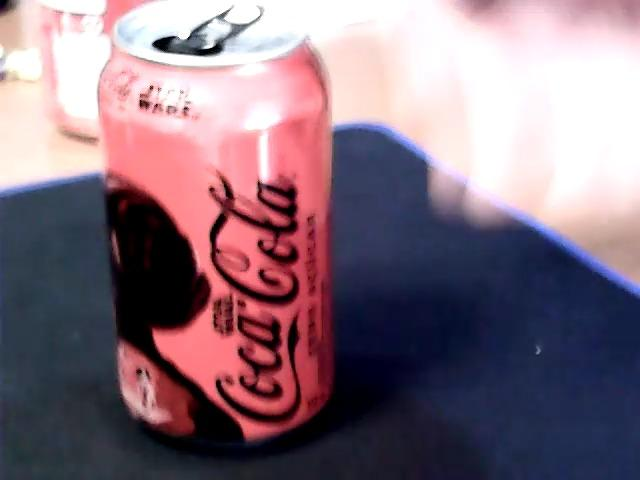coke: (96, 3, 333, 454), (31, 3, 168, 142)
